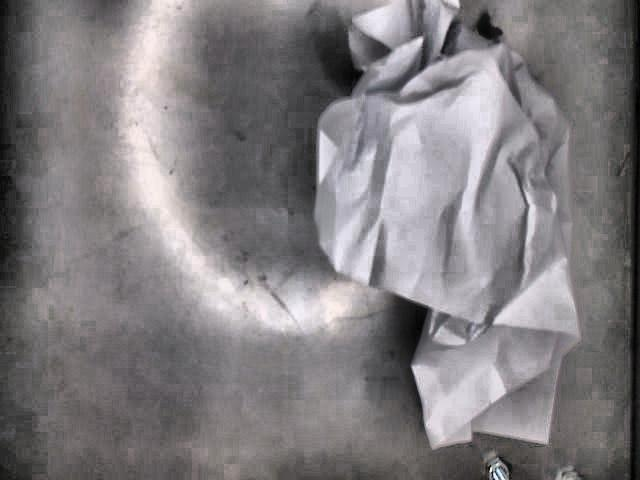Paper: (317, 0, 579, 449)
